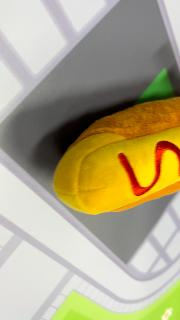hotdog: (52, 96, 180, 216)
